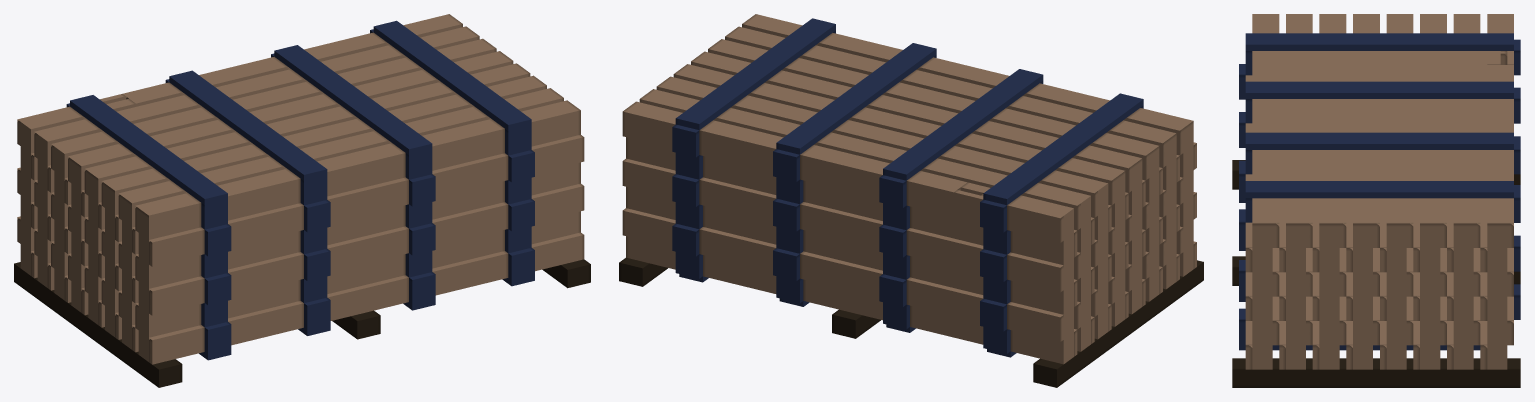
File: zestaw_desek.dae
3 views of the same model, side by side, from view 1: azimuth 30°, elevation 25°; view 2: azimuth 150°, elevation 25°; view 3: azimuth 270°, elevation 25° (orthographic).
Parts seen in each view (by area): view 1: Content; view 2: Content; view 3: Content.
Boxes of the visible parts, left/top/right/bottom form: Content: left=14, top=14, right=590, bottom=387; Content: left=619, top=14, right=1203, bottom=387; Content: left=1232, top=14, right=1520, bottom=387.
Bounding box in the file's own units: 74 × 28 × 43.
1 material, 1 textured.
